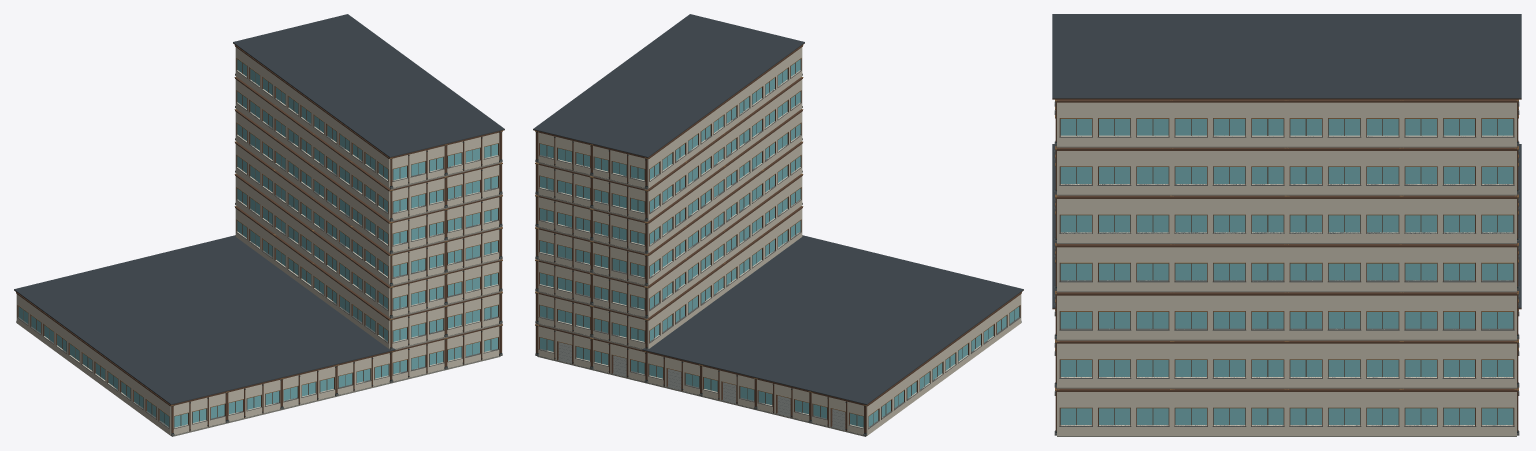
The model's file is visual-far.glb.
3 renders of one model, left to right at view 1: azimuth 30°, elevation 25°; view 2: azimuth 150°, elevation 25°; view 3: azimuth 270°, elevation 25°, orthographic. The views are drawn at different scales.
Parts seen in each view (by area): view 1: 参数墙 · 独立窗玻璃 (×46), 连续屋面 · flat (×2); view 2: 参数墙 · 独立窗玻璃 (×40), 连续屋面 · flat (×2), 参数墙 · 通行门洞 (×6); view 3: 参数墙 · 独立窗玻璃 (×28), 连续屋面 · flat (×2).
Part boxes in pixels (left/top/right/bottom): 参数墙 · 独立窗玻璃 (×46): left=16, top=45, right=500, bottom=435; 连续屋面 · flat (×2): left=14, top=14, right=504, bottom=405; 参数墙 · 独立窗玻璃 (×40): left=537, top=45, right=1021, bottom=435; 连续屋面 · flat (×2): left=533, top=14, right=1023, bottom=405; 参数墙 · 通行门洞 (×6): left=537, top=324, right=864, bottom=434; 参数墙 · 独立窗玻璃 (×28): left=1057, top=99, right=1516, bottom=435; 连续屋面 · flat (×2): left=1052, top=14, right=1521, bottom=309.
Size of the model in its own units: 47.6 by 31.12 by 38.8.
15 materials, 15 textured.
